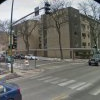crosswalk: (28, 75, 100, 95)
